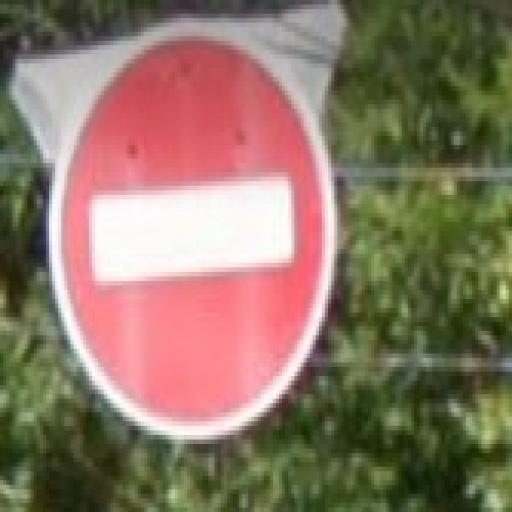traffic_sign: (50, 28, 341, 445)
